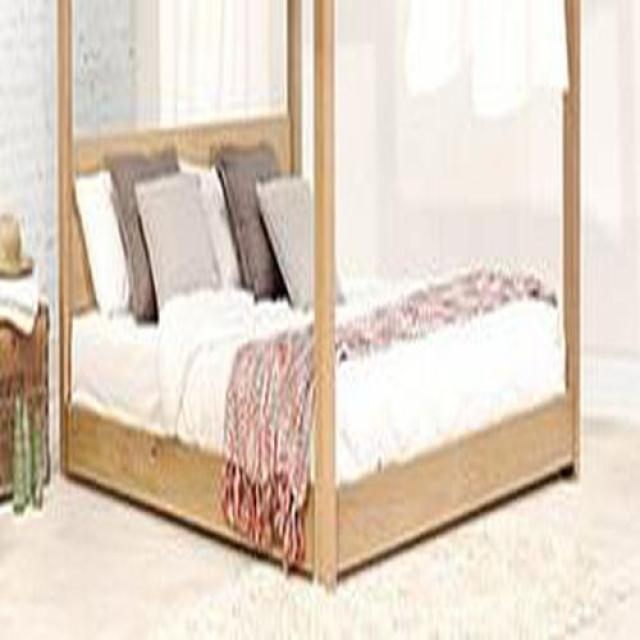bed: (68, 142, 576, 588)
